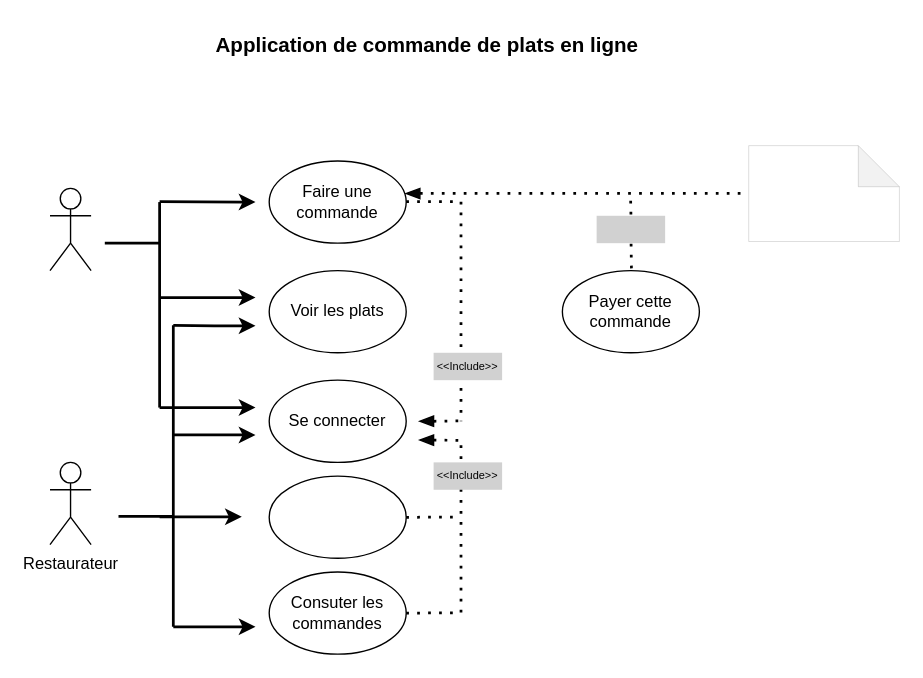
This 923x678 diagram has some shape labels left out. The centre of each missing label's shape, as x and y in pixels:
"<<Extend>>" belongs at [630,228].
"Client" belongs at [70,229].
"Gérer les plats CRUD" belongs at [337,516].
"Si la commande est valide" belongs at [823,193].
